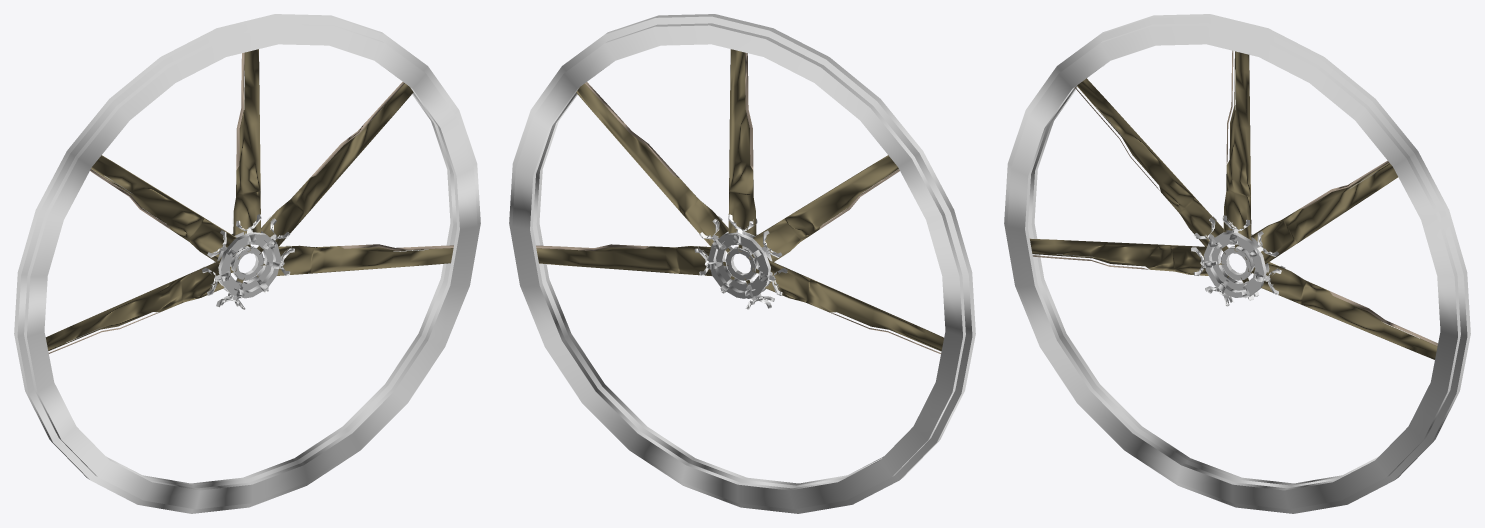
Rendered from facade_fan_broken_a.glb.
The picture shows the model from 3 angles, left to right: view 1: azimuth 30°, elevation 25°; view 2: azimuth 150°, elevation 25°; view 3: azimuth 330°, elevation 25°; orthographic projection.
Size of the model in its own units: 15.05 by 15.02 by 0.703.
